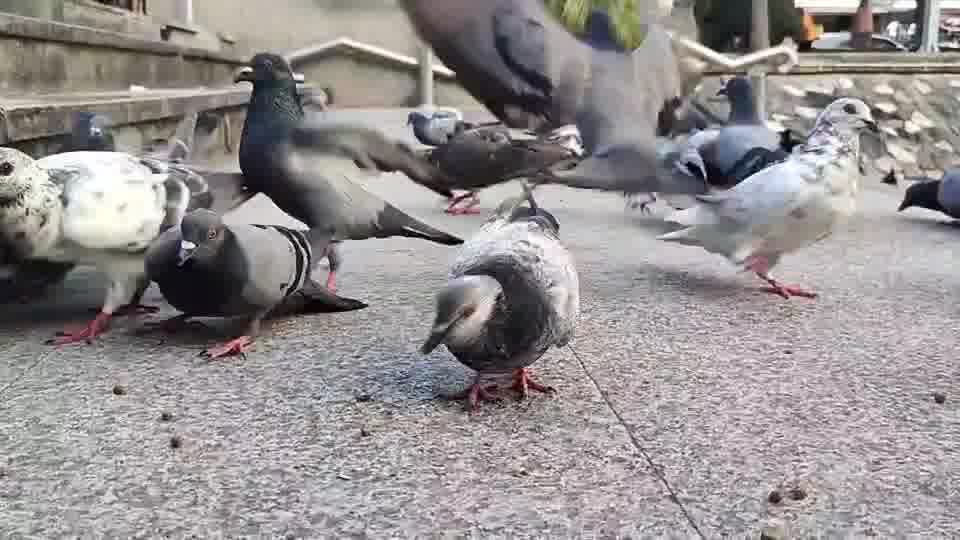Pigeon: (400, 0, 799, 214), (230, 51, 465, 294), (655, 95, 878, 300), (0, 143, 209, 346), (419, 182, 580, 413), (142, 205, 368, 361), (404, 107, 584, 215), (896, 163, 959, 225)
